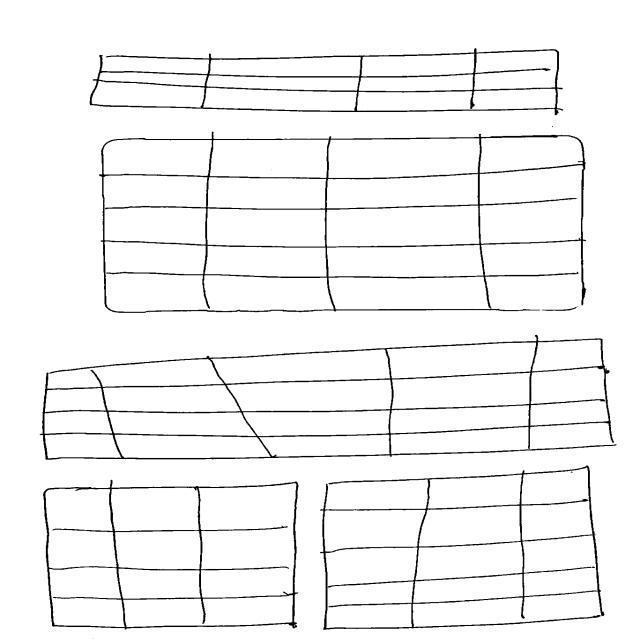table: (99, 132, 587, 314), (40, 336, 618, 461), (321, 466, 605, 631), (44, 481, 300, 630), (91, 49, 565, 116)
